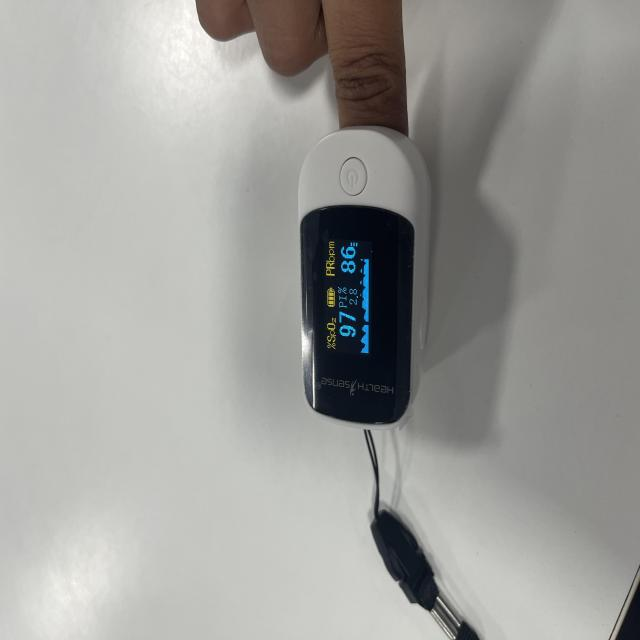spo2: (296, 127, 434, 429)
